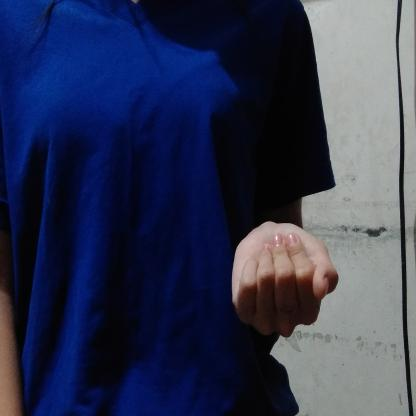where: (217, 211, 353, 345)
